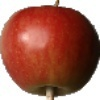apple: (1, 6, 100, 96)
